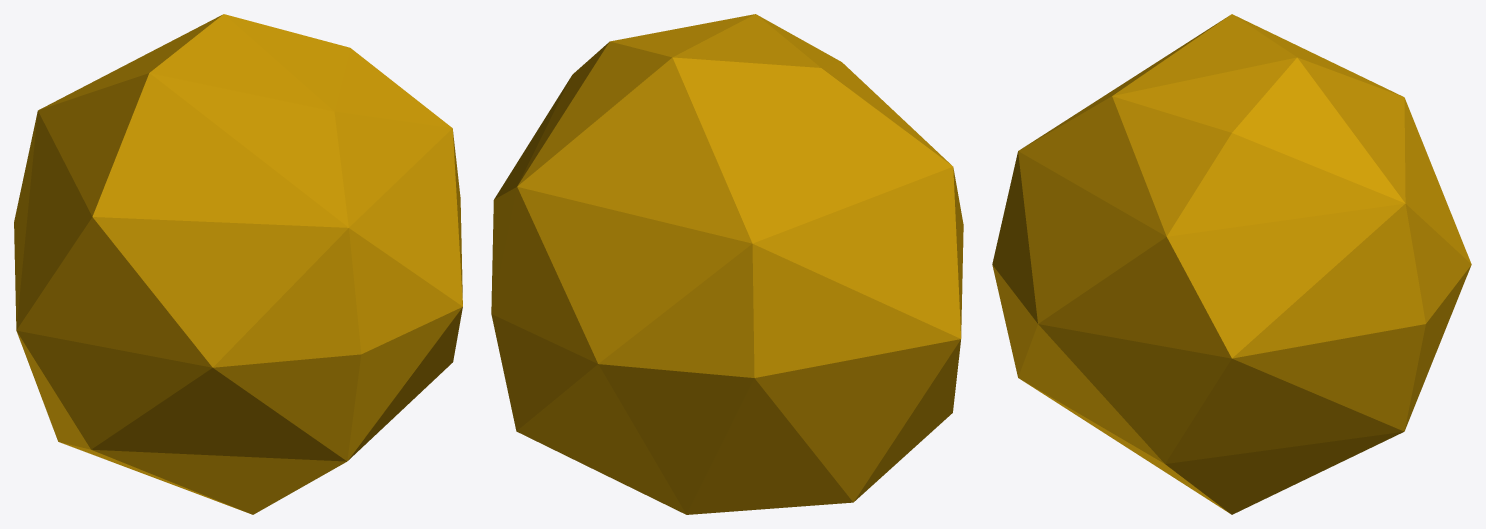
The model's file is sun.obj.
The picture shows the model from 3 angles, left to right: view 1: azimuth 30°, elevation 25°; view 2: azimuth 150°, elevation 25°; view 3: azimuth 270°, elevation 25°; orthographic projection. The views are drawn at different scales.
Parts seen in each view (by area): view 1: Icosphere; view 2: Icosphere; view 3: Icosphere.
Part boxes in pixels (<box>): Icosphere: <box>14,14,462,514</box>; Icosphere: <box>491,14,963,514</box>; Icosphere: <box>992,14,1471,514</box>.
Bounding box in the file's own units: 2.09 × 1.99 × 2.
